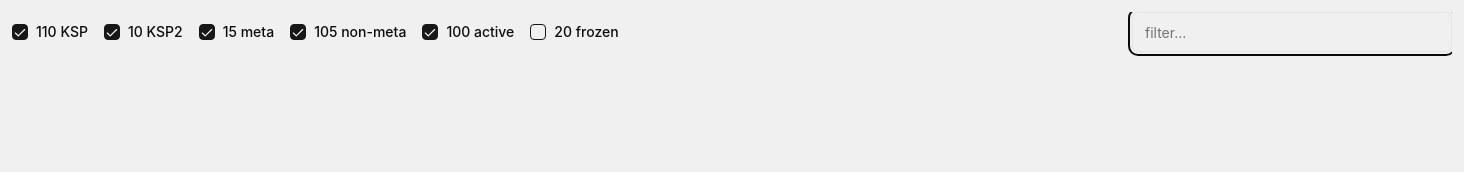
FilterControls › should clear input when clear button is clicked
This screenshot has width=1464, height=172.
// Enter text to show clear button
Type "test" into the field with placeholder "filter..." at (1292, 32), box [1132,12,1452,52]
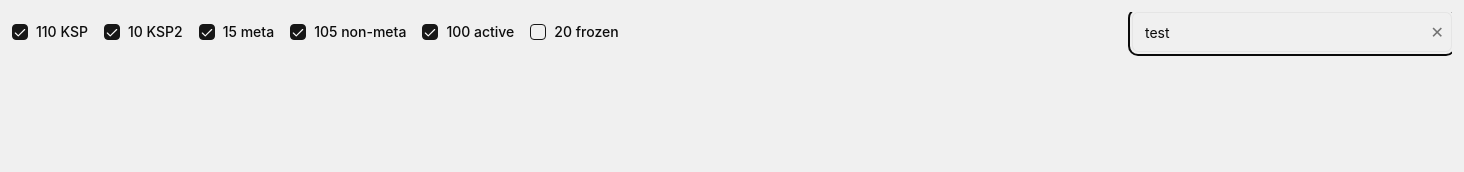
// Click clear button
Click the button named "clear search" at (1437, 32), box [1431,20,1444,44]
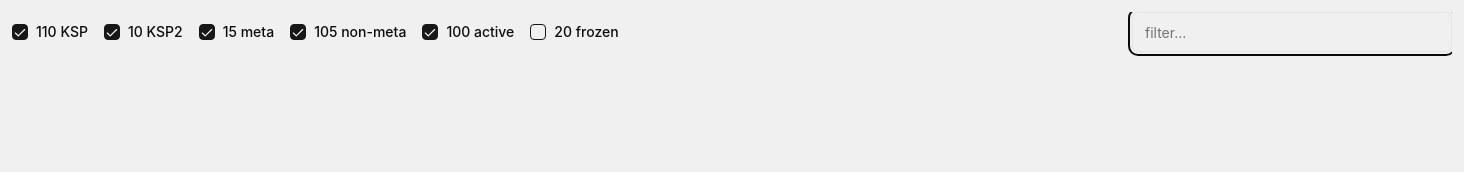
Check: the field with placeholder "filter..." is empty, box [1132,12,1452,52]
